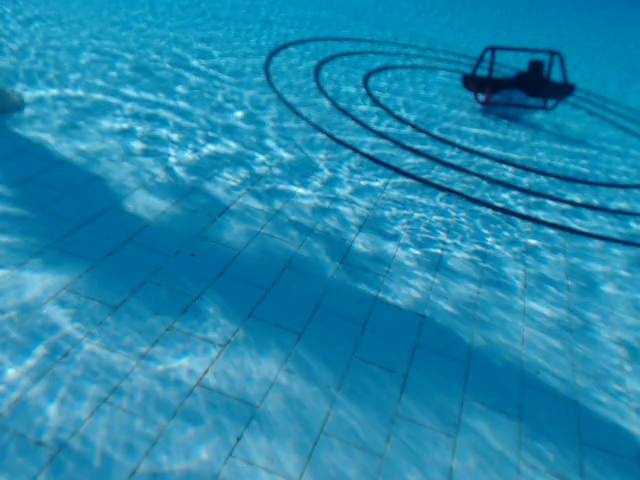submarine: (461, 43, 577, 117)
